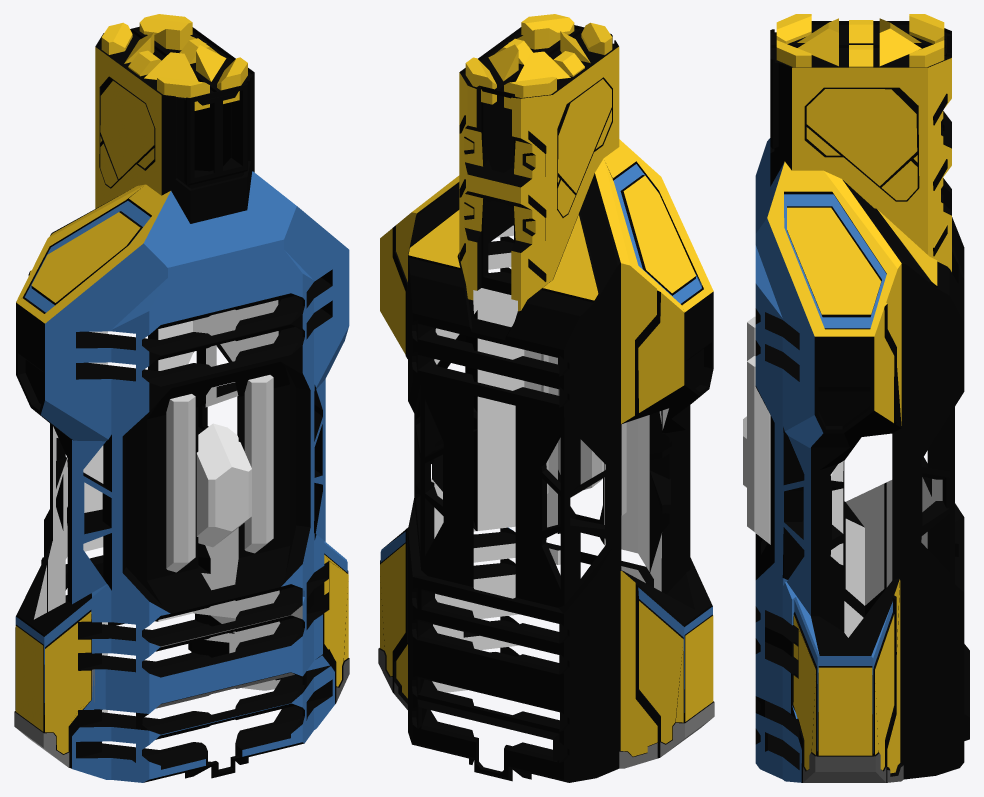
The model's file is 2x2_building_04.glb.
The picture shows the model from 3 angles, left to right: view 1: azimuth 30°, elevation 25°; view 2: azimuth 150°, elevation 25°; view 3: azimuth 270°, elevation 25°; orthographic projection. The views are drawn at different scales.
Parts seen in each view (by area): view 1: ship, Extruded.010, Pipe.003, Pipe.001, Pipe.002; view 2: ship, Extruded.010, Pipe.003; view 3: ship, Extruded.010, Pipe.002.
Boxes of the visible parts, x1,y1,x2,y2 form: ship: [14, 26, 349, 782]; Extruded.010: [101, 14, 247, 110]; Pipe.003: [196, 423, 251, 547]; Pipe.001: [166, 394, 195, 572]; Pipe.002: [244, 375, 273, 553]; ship: [378, 25, 714, 782]; Extruded.010: [465, 14, 612, 109]; Pipe.003: [558, 389, 603, 489]; ship: [755, 21, 969, 782]; Extruded.010: [776, 14, 944, 67]; Pipe.002: [747, 356, 770, 544].
Size of what is drawn, in the model's own units: 12.08 by 26.36 by 7.56.
Materials: 1 (1 with a texture image).
